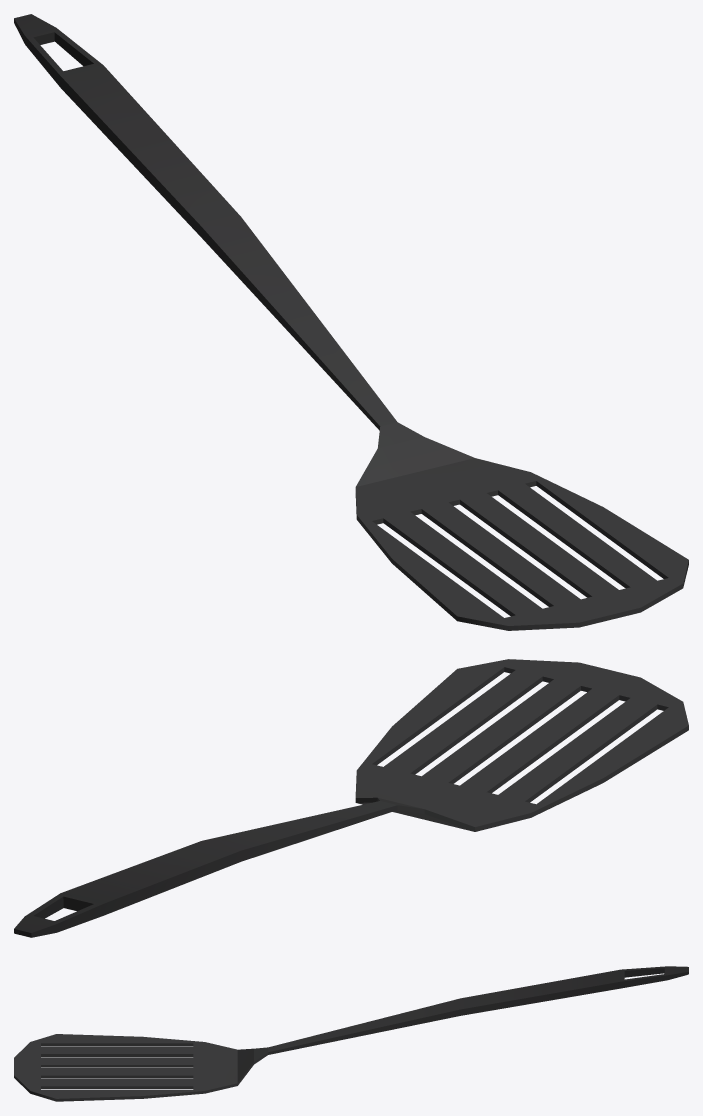
File: Spatula.fbx
The picture shows the model from 3 angles, top to bottom: view 1: azimuth 30°, elevation 25°; view 2: azimuth 150°, elevation 25°; view 3: azimuth 270°, elevation 25°; orthographic projection. The views are drawn at different scales.
Parts seen in each view (by area): view 1: Spatula; view 2: Spatula; view 3: Spatula.
Boxes of the visible parts, x1,y1,x2,y2 form: Spatula: [14, 14, 688, 630]; Spatula: [14, 659, 688, 937]; Spatula: [14, 966, 688, 1101].
Size of the model in its own units: 12.11 by 8.69 by 53.19.
